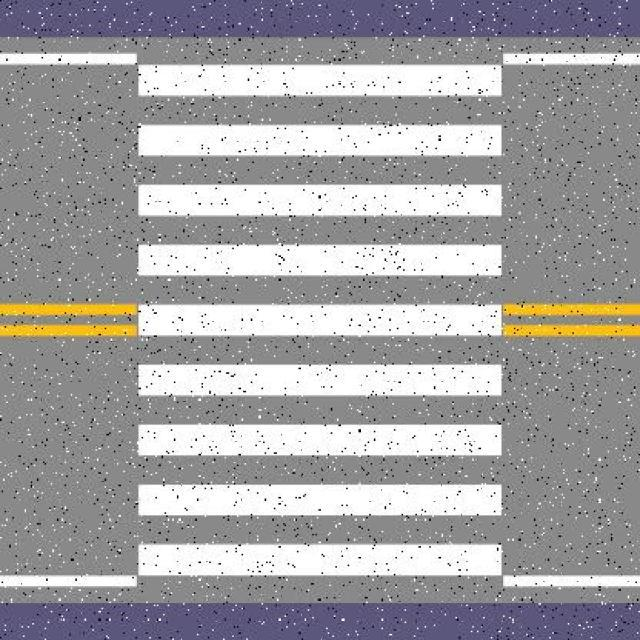crosswalk: (134, 59, 504, 581)
